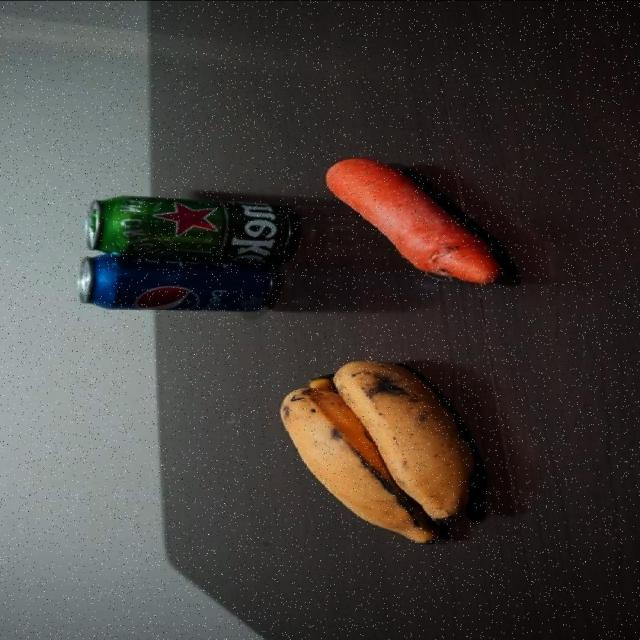Banana: (282, 360, 480, 545)
BeerCan: (83, 196, 297, 263)
Carrot: (324, 158, 504, 285)
SodaCan: (77, 255, 274, 312)
